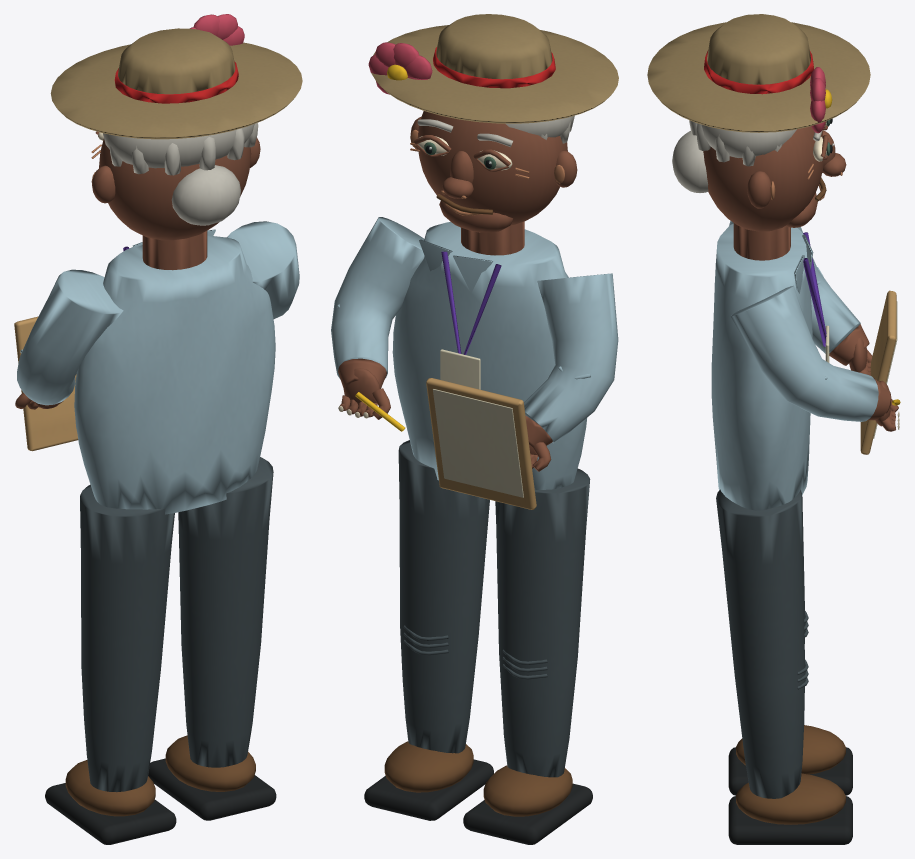
Rendered from NPC_Judge2.gltf.
The picture shows the model from 3 angles, left to right: view 1: azimuth 30°, elevation 25°; view 2: azimuth 150°, elevation 25°; view 3: azimuth 270°, elevation 25°; orthographic projection.
Visible parts, largest first — view 1: NPC_Judge2__Body, NPC_Judge2__Head; view 2: NPC_Judge2__Body, NPC_Judge2__Head; view 3: NPC_Judge2__Body, NPC_Judge2__Head.
Part boxes in pixels (bbox=[...]): NPC_Judge2__Body: bbox=[14, 221, 299, 844]; NPC_Judge2__Head: bbox=[50, 14, 302, 240]; NPC_Judge2__Body: bbox=[331, 217, 618, 844]; NPC_Judge2__Head: bbox=[368, 14, 618, 232]; NPC_Judge2__Body: bbox=[711, 220, 900, 844]; NPC_Judge2__Head: bbox=[647, 14, 870, 231].
Size of the model in its own units: 0.56 by 1.51 by 0.448.
1 material, 1 textured.
